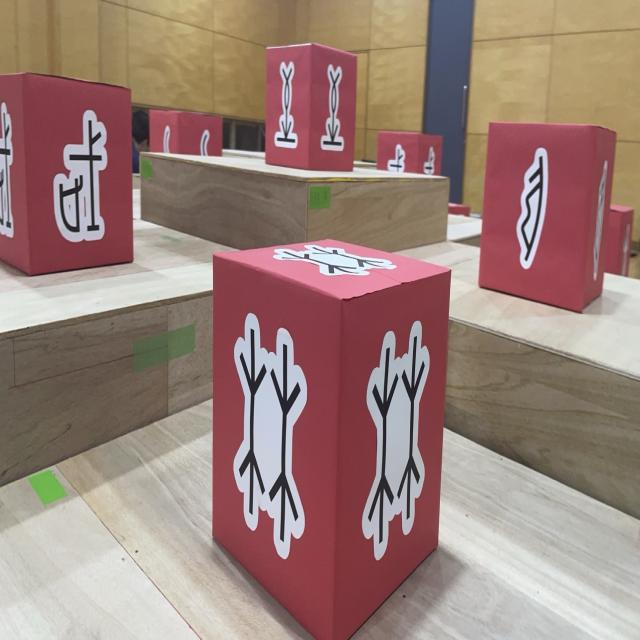11: (516, 148, 549, 268), (592, 158, 608, 283)
13: (200, 128, 210, 156), (163, 125, 170, 154)
5: (53, 109, 107, 244), (0, 102, 14, 238)
6: (233, 312, 308, 560), (362, 319, 431, 561), (274, 243, 397, 279)
7: (322, 63, 345, 152), (274, 63, 298, 148)
9: (388, 144, 404, 173), (423, 147, 436, 176)
fighter: (213, 237, 451, 640), (0, 71, 134, 277), (479, 120, 617, 313), (266, 41, 358, 171), (149, 108, 223, 156), (377, 130, 442, 176), (602, 202, 635, 278), (448, 200, 470, 217)
